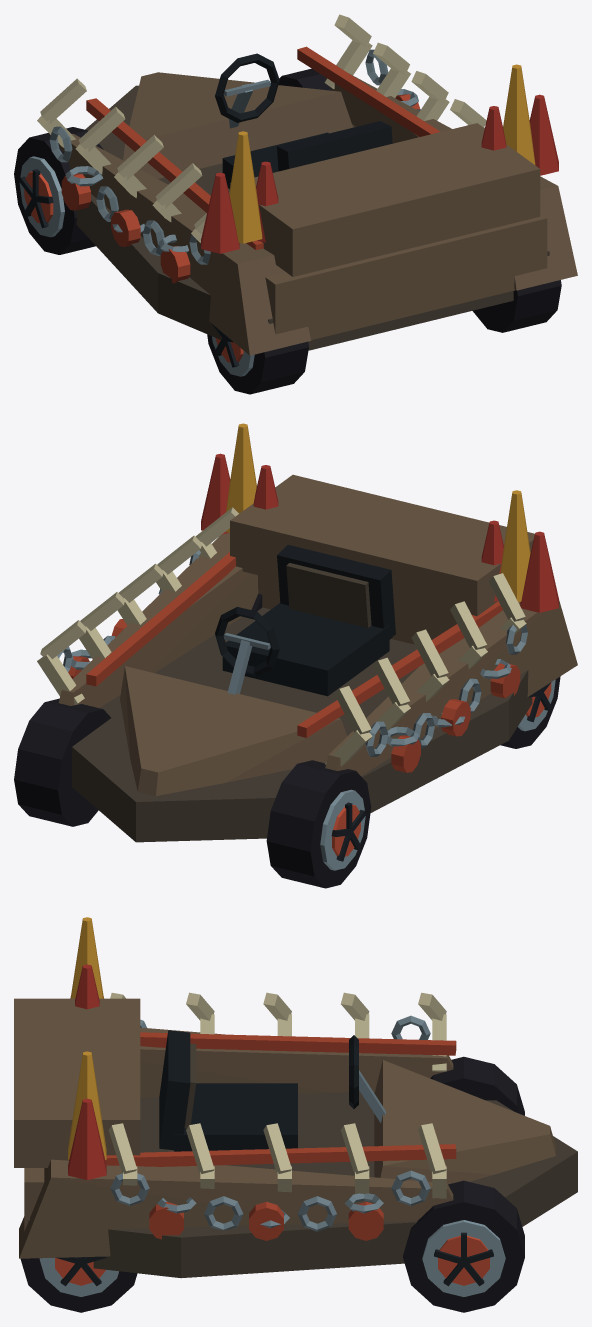
The model's file is kart.glb.
3 renders of one model, top to bottom at view 1: azimuth 30°, elevation 25°; view 2: azimuth 150°, elevation 25°; view 3: azimuth 270°, elevation 25°, orthographic.
Visible parts, largest first — view 1: identity-ship-ship-pointed-bow-and-raised-stern, identity-ship-motif-fire, identity-ship-motif-ribs, identity-ship-driver-cockpit, wheel-front-left, wheel-rear-left, identity-ship-motif-chains, wheel-rear-right, wheel-front-right; view 2: identity-ship-ship-pointed-bow-and-raised-stern, identity-ship-driver-cockpit, identity-ship-motif-ribs, wheel-front-left, identity-ship-motif-fire, wheel-front-right, identity-ship-motif-chains, wheel-rear-left; view 3: identity-ship-ship-pointed-bow-and-raised-stern, wheel-front-right, identity-ship-driver-cockpit, identity-ship-motif-ribs, identity-ship-motif-fire, wheel-rear-right, identity-ship-motif-chains, wheel-front-left.
Boxes of the visible parts, left/top/right/bottom form: identity-ship-ship-pointed-bow-and-raised-stern: left=58, top=46, right=577, bottom=355; identity-ship-motif-fire: left=201, top=64, right=558, bottom=253; identity-ship-motif-ribs: left=37, top=14, right=486, bottom=242; identity-ship-driver-cockpit: left=215, top=53, right=392, bottom=188; wheel-front-left: left=14, top=127, right=103, bottom=254; wheel-rear-left: left=207, top=324, right=308, bottom=394; identity-ship-motif-chains: left=49, top=49, right=420, bottom=264; wheel-rear-right: left=472, top=280, right=561, bottom=332; wheel-front-right: left=278, top=68, right=331, bottom=90; identity-ship-ship-pointed-bow-and-raised-stern: left=58, top=474, right=577, bottom=842; identity-ship-driver-cockpit: left=215, top=544, right=395, bottom=696; identity-ship-motif-ribs: left=37, top=507, right=526, bottom=766; wheel-front-left: left=266, top=760, right=371, bottom=888; identity-ship-motif-fire: left=201, top=423, right=558, bottom=612; wheel-front-right: left=14, top=698, right=110, bottom=826; identity-ship-motif-chains: left=57, top=550, right=527, bottom=756; wheel-rear-left: left=500, top=676, right=560, bottom=748; identity-ship-ship-pointed-bow-and-raised-stern: left=14, top=998, right=577, bottom=1278; wheel-front-right: left=403, top=1180, right=524, bottom=1312; identity-ship-driver-cockpit: left=159, top=1030, right=385, bottom=1151; identity-ship-motif-ribs: left=108, top=992, right=446, bottom=1198; identity-ship-motif-fire: left=68, top=917, right=106, bottom=1180; wheel-rear-right: left=20, top=1256, right=137, bottom=1312; identity-ship-motif-chains: left=110, top=1015, right=430, bottom=1231; wheel-front-left: left=430, top=1056, right=524, bottom=1115.
Size of the model in its own units: 2.04 by 1.38 by 2.77.
